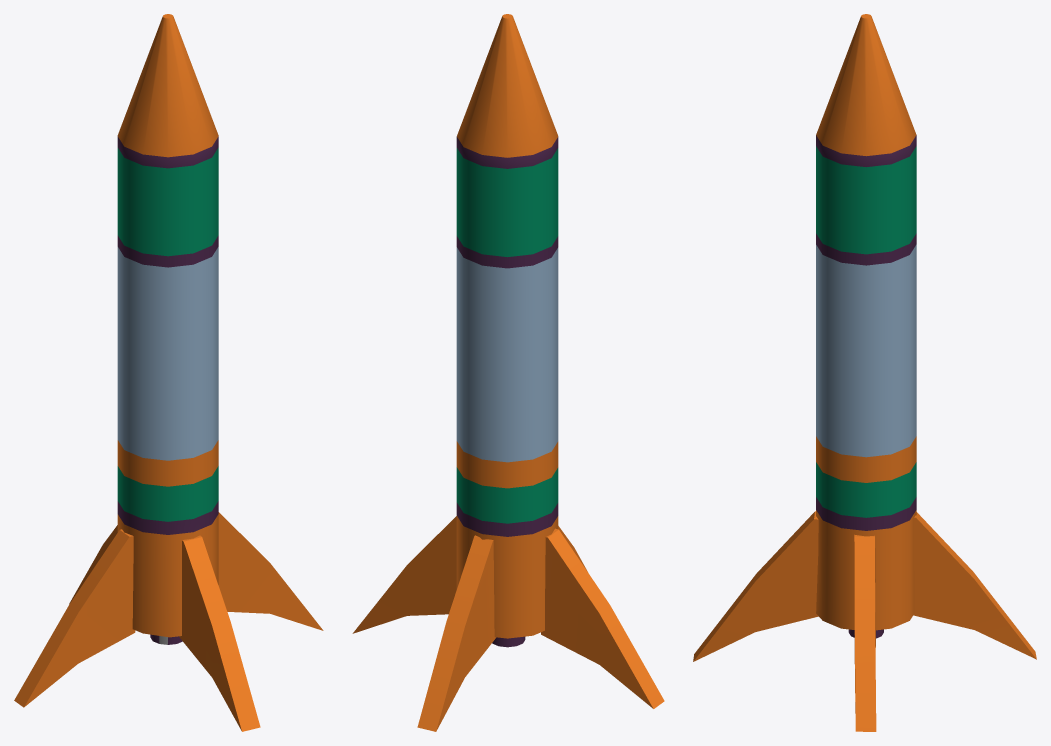
The model's file is rocket.FBX.
3 renders of one model, left to right at view 1: azimuth 30°, elevation 25°; view 2: azimuth 150°, elevation 25°; view 3: azimuth 270°, elevation 25°, orthographic.
Visible parts, largest first — view 1: Tube001; view 2: Tube001; view 3: Tube001.
Part boxes in pixels (x1,y1,x2,y2): Tube001: (14,14,323,731); Tube001: (352,14,664,731); Tube001: (693,14,1036,731).
Size of the model in its own units: 25.44 by 52.59 by 25.38.
